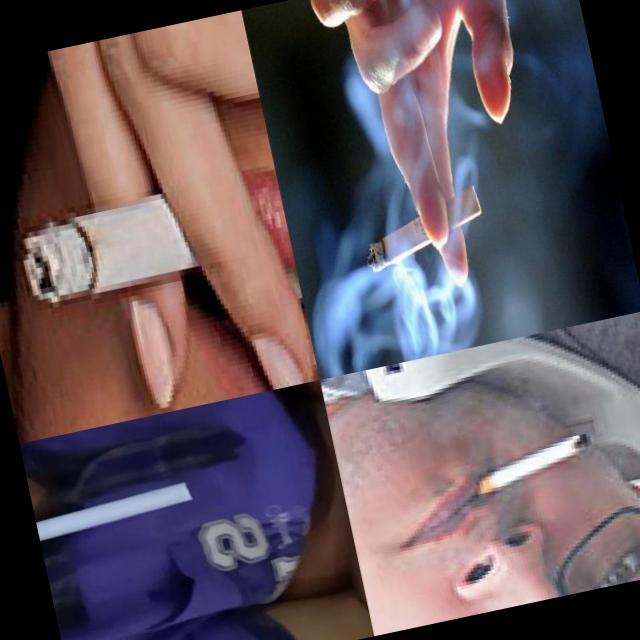smoke: (12, 174, 265, 312), (356, 184, 490, 274), (34, 478, 199, 545), (456, 430, 598, 502)
